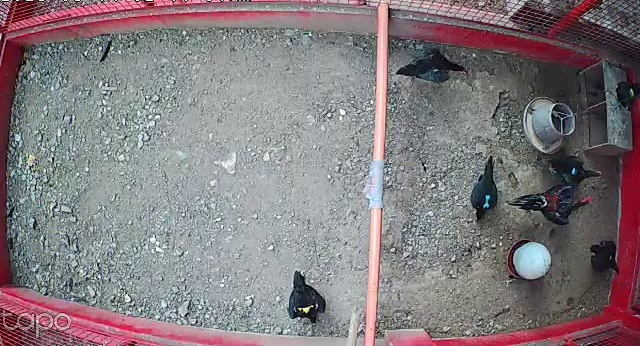Chicken: (394, 44, 473, 86), (282, 266, 328, 324), (468, 158, 503, 223), (545, 151, 606, 186), (588, 237, 622, 276), (609, 77, 640, 118)
Rooster: (506, 176, 596, 226)
Saddle_Color_Blue: (572, 166, 577, 175)
Saddle_Color_Yellow: (298, 302, 314, 314)
Saddle_Color_YellowGreen: (628, 88, 635, 99)
